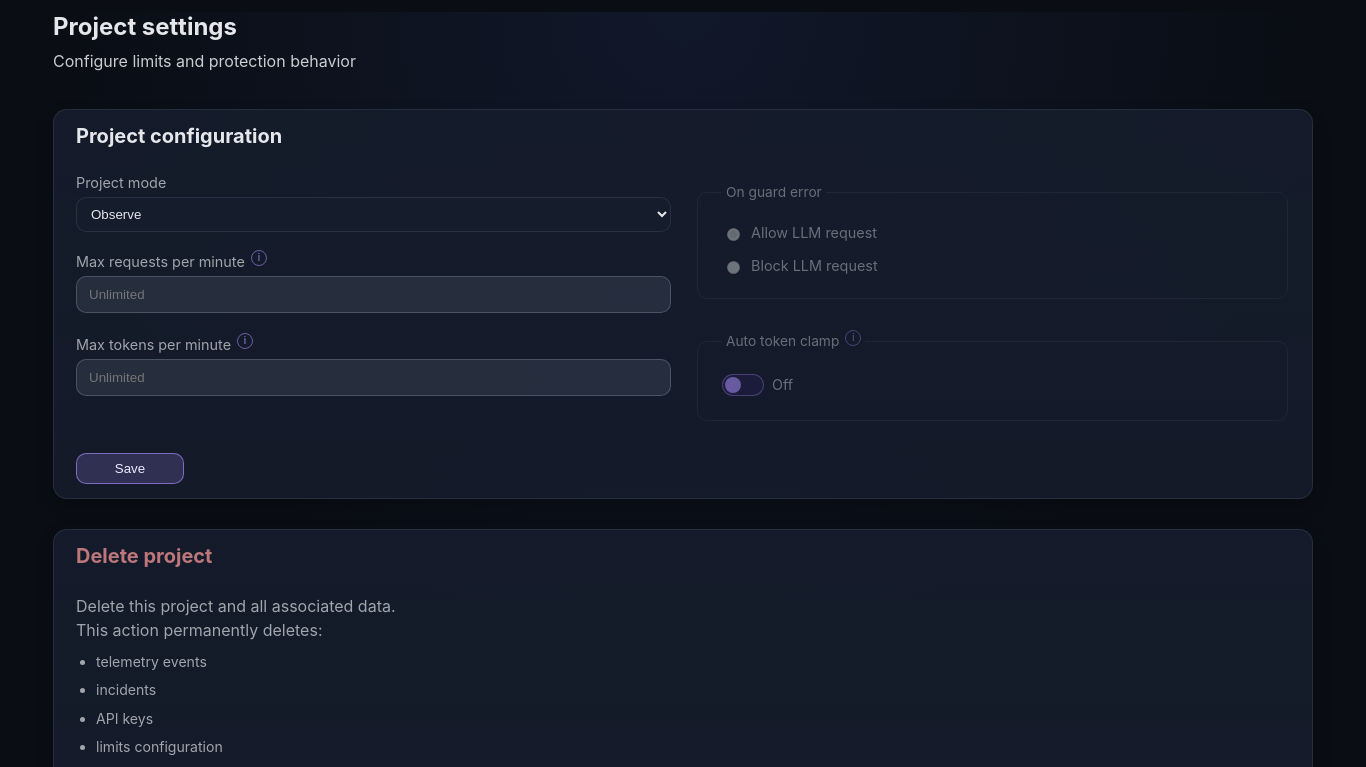
Test: Form column layout › renders accessible info tooltips for per-provider limits
Focus the button named "More info": coordinates (259, 258) [251, 250, 267, 266]
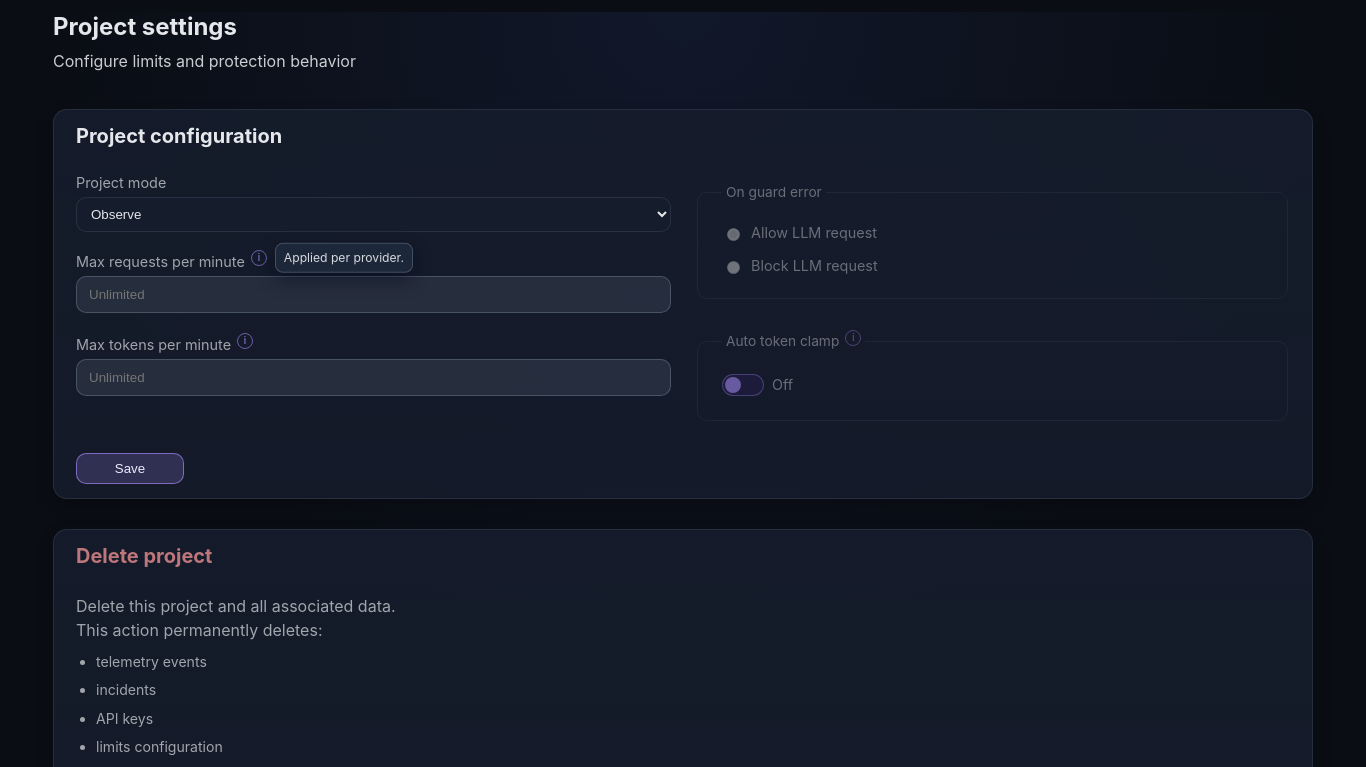
Result: the tooltip reads "Applied per provider." at [284, 250, 404, 265]
Leave the button named "More info", box [251, 250, 267, 266]
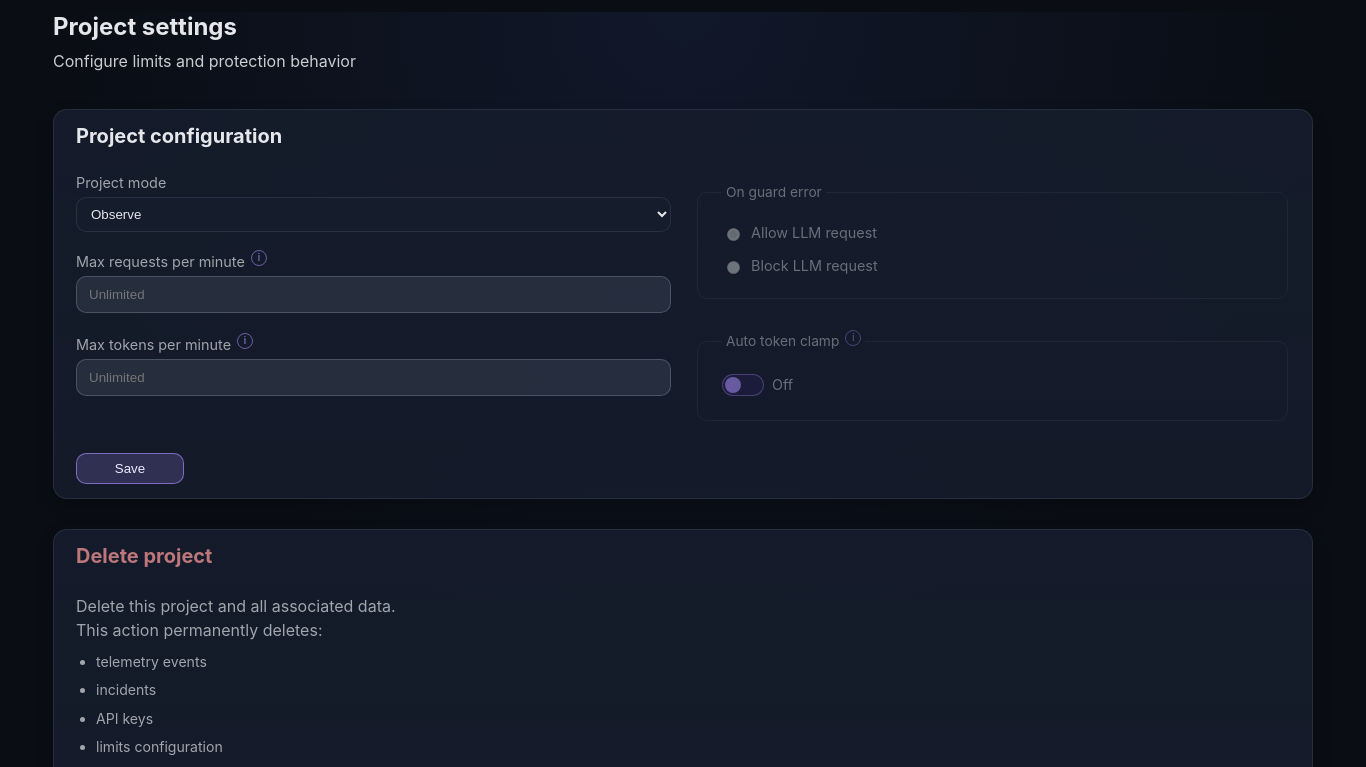
Focus the button named "More info": coordinates (853, 338) [845, 330, 861, 346]
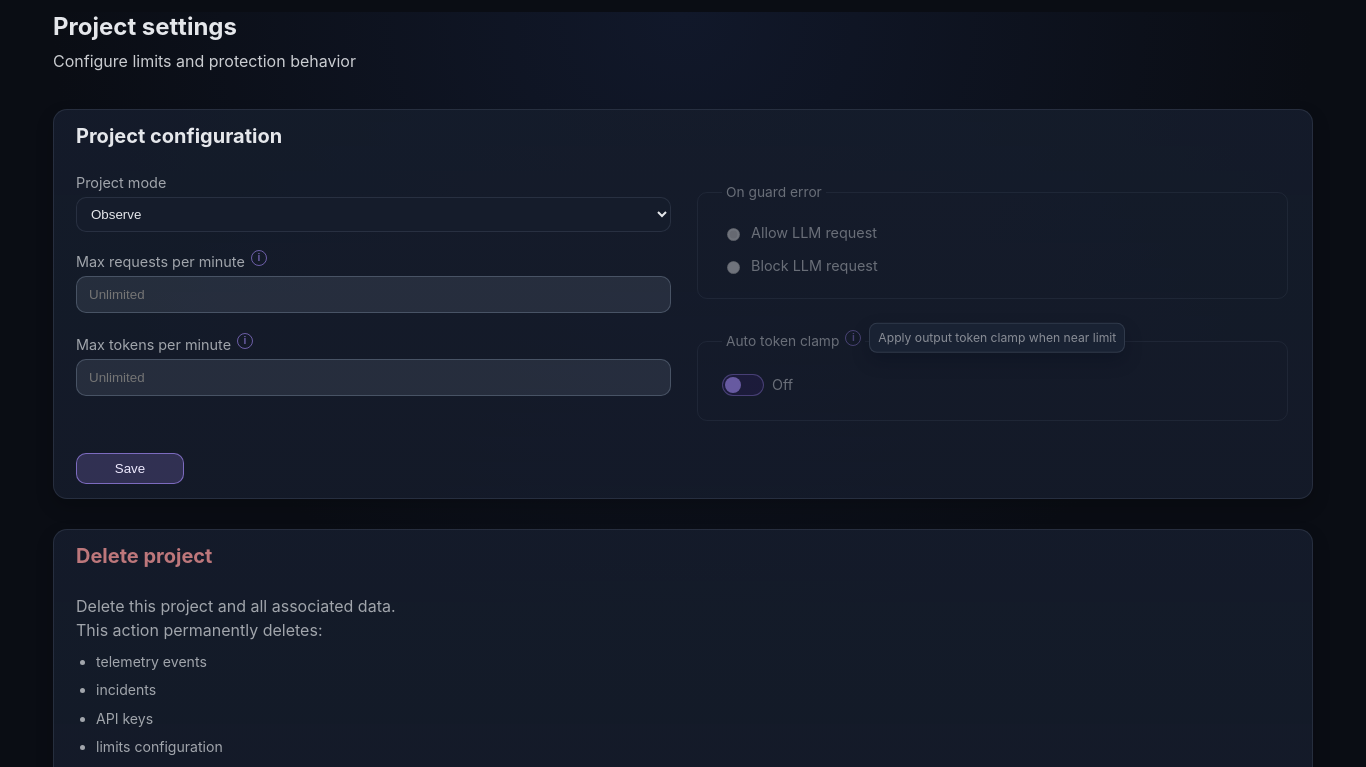
Result: the tooltip reads "Apply output token clamp when near limit" at [878, 330, 1116, 345]
